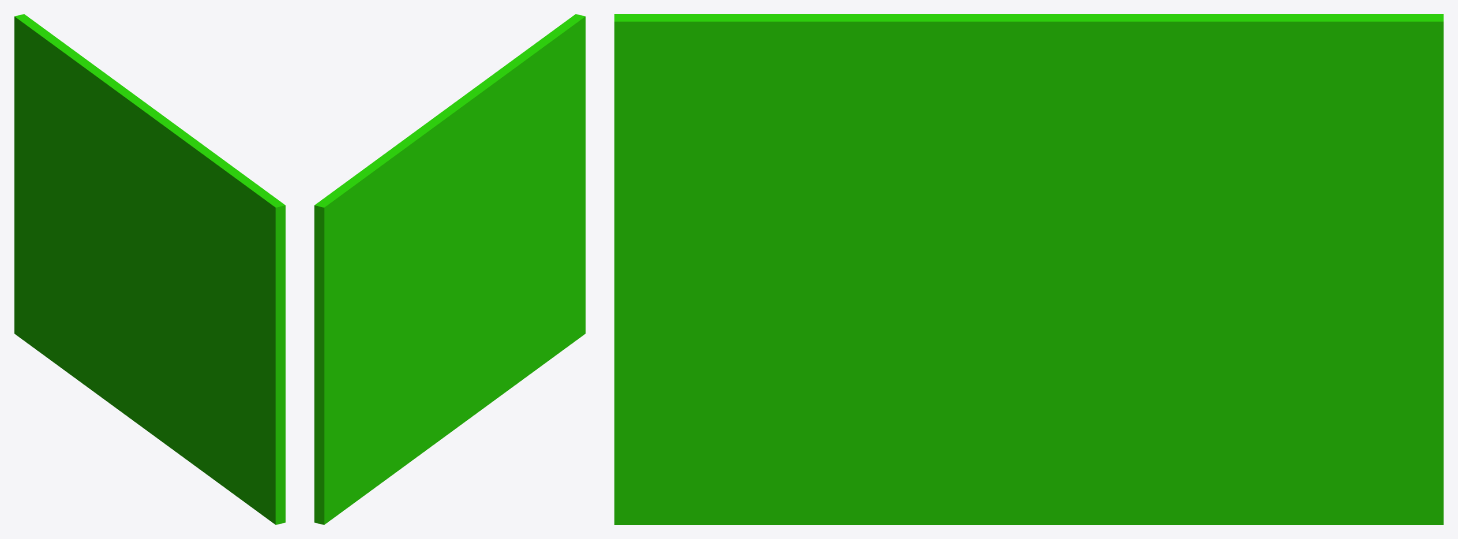
The model's file is BH05B_Wall_Int_05.fbx.
3 renders of one model, left to right at view 1: azimuth 30°, elevation 25°; view 2: azimuth 150°, elevation 25°; view 3: azimuth 270°, elevation 25°, orthographic. The views are drawn at different scales.
Visible parts, largest first — view 1: BH05B_Wall_Int_05; view 2: BH05B_Wall_Int_05; view 3: BH05B_Wall_Int_05.
Boxes of the visible parts, bbox=[...] form: BH05B_Wall_Int_05: bbox=[14, 14, 285, 524]; BH05B_Wall_Int_05: bbox=[314, 14, 585, 524]; BH05B_Wall_Int_05: bbox=[614, 14, 1443, 524].
Bounding box in the file's own units: 9.52 × 294 × 438.
